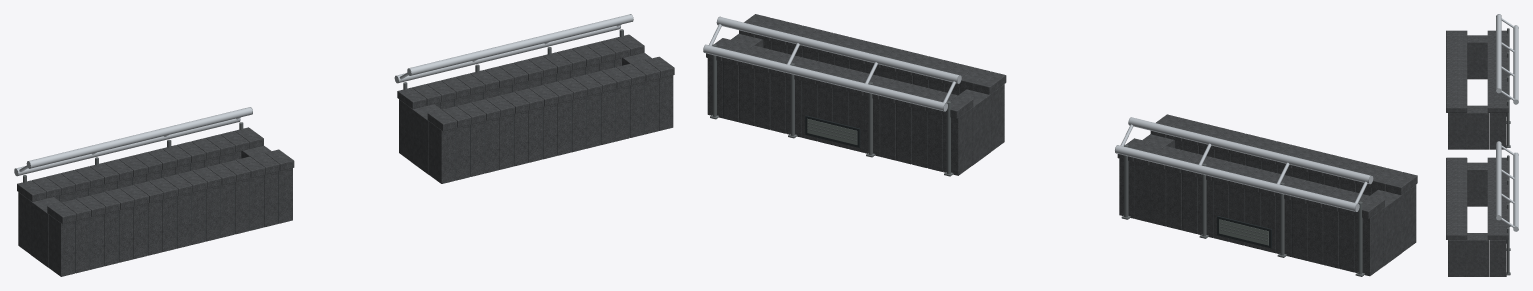
Rendered from seating.glb.
The picture shows the model from 3 angles, left to right: view 1: azimuth 30°, elevation 25°; view 2: azimuth 150°, elevation 25°; view 3: azimuth 270°, elevation 25°; orthographic projection. The views are drawn at different scales.
Visible parts, largest first — view 1: current_right__stone, current_left__stone, current_left__rails, current_right__rails; view 2: current_left__stone, current_right__stone, current_left__rails, current_right__rails, current_right__rail_hardware, current_left__rail_hardware, current_right__lighting_detail, current_left__lighting_detail; view 3: current_right__stone, current_left__stone, current_right__rails, current_left__rails, current_left__rail_hardware, current_right__rail_hardware.
Boxes of the visible parts, <box> form: current_right__stone: <box>397,34,674,183</box>; current_left__stone: <box>17,127,294,276</box>; current_left__rails: <box>14,107,252,175</box>; current_right__rails: <box>394,14,633,83</box>; current_left__stone: <box>1117,114,1417,276</box>; current_right__stone: <box>706,14,1006,175</box>; current_left__rails: <box>1115,117,1373,211</box>; current_right__rails: <box>703,17,961,111</box>; current_right__rail_hardware: <box>703,16,959,176</box>; current_left__rail_hardware: <box>1115,117,1371,276</box>; current_right__lighting_detail: <box>805,115,860,147</box>; current_left__lighting_detail: <box>1217,216,1271,248</box>; current_right__stone: <box>1446,157,1508,276</box>; current_left__stone: <box>1446,30,1508,149</box>; current_right__rails: <box>1496,141,1518,231</box>; current_left__rails: <box>1496,14,1518,104</box>; current_left__rail_hardware: <box>1496,14,1516,147</box>; current_right__rail_hardware: <box>1496,141,1518,275</box>.
Size of the model in its own units: 6.2 by 0.8457 by 0.9307.
Materials: 6 (1 with a texture image).
